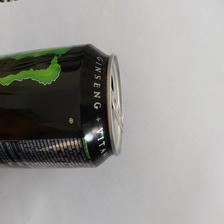Metal: (0, 42, 122, 170)
